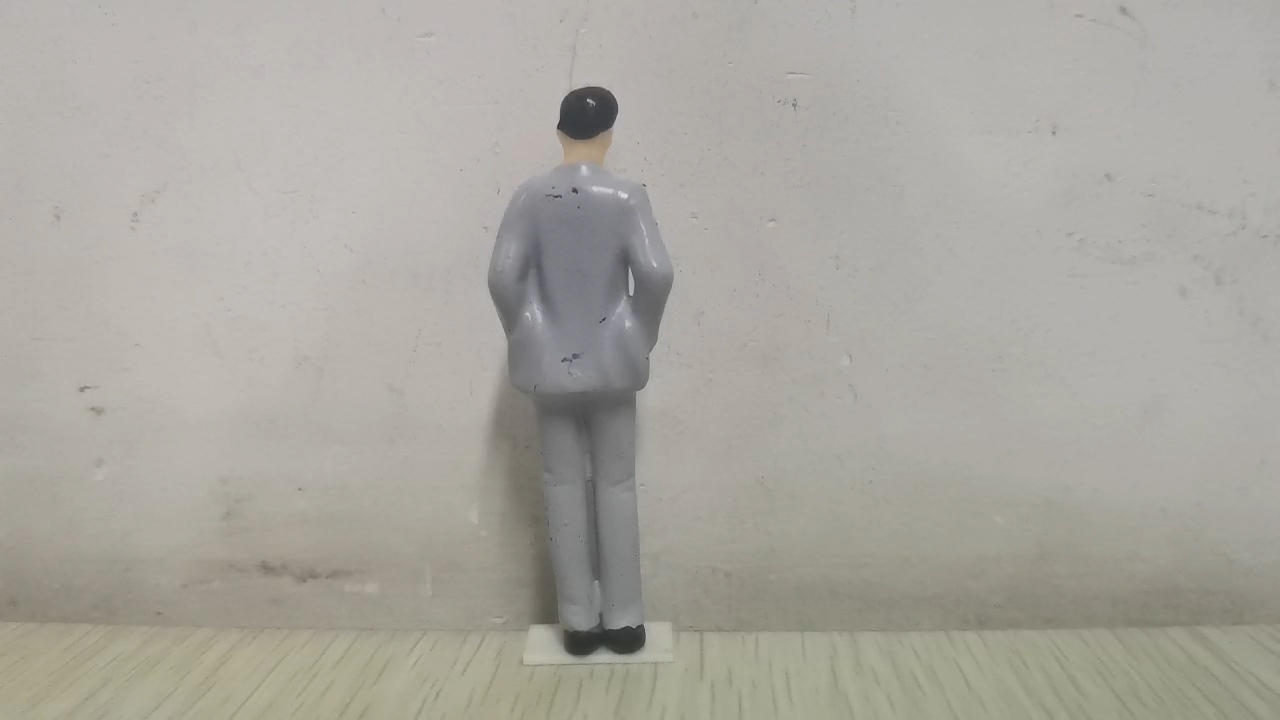person: (483, 84, 678, 656)
